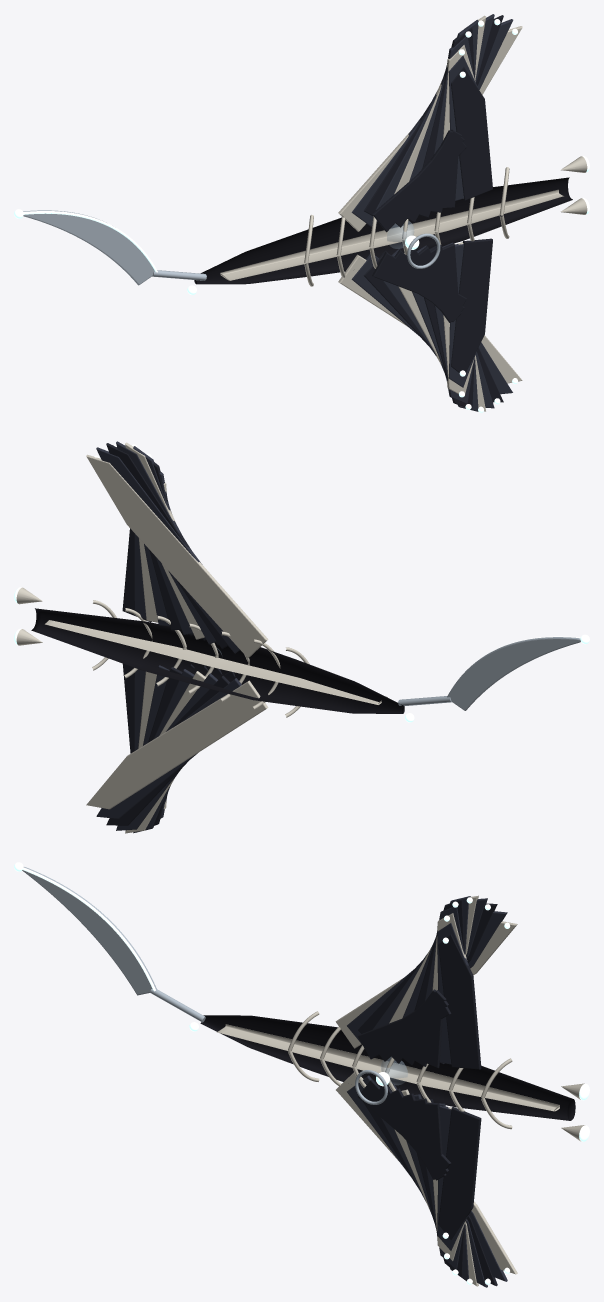
Rendered from thanatos.glb.
3 renders of one model, top to bottom at view 1: azimuth 30°, elevation 25°; view 2: azimuth 150°, elevation 25°; view 3: azimuth 330°, elevation 25°, orthographic.
Parts seen in each view (by area): view 1: hull, spine, feather_R_10, feather_L_10, scythe_blade, covert_L_0, covert_R_0, feather_L_0, feather_L_1, feather_R_0, feather_R_1, feather_L_2 (+20 smaller); view 2: hull, feather_L_0, feather_R_0, scythe_blade, spine, feather_L_1, feather_R_1, feather_L_2, feather_R_2, feather_L_3, feather_R_3, feather_L_4 (+13 smaller); view 3: hull, spine, feather_L_10, feather_R_10, scythe_blade, covert_L_1, covert_R_2, feather_R_0, feather_L_0, feather_R_1, feather_L_1, feather_L_2 (+18 smaller).
Boxes of the visible parts, x1,y1,x2,y2 form: hull: (194, 177, 572, 284); spine: (220, 189, 563, 280); feather_R_10: (451, 238, 492, 372); feather_L_10: (451, 67, 492, 200); scythe_blade: (23, 210, 154, 285); covert_L_0: (372, 140, 466, 232); covert_R_0: (372, 252, 466, 308); feather_L_0: (338, 26, 522, 231); feather_L_1: (351, 19, 513, 227); feather_R_0: (338, 254, 522, 383); feather_R_1: (351, 253, 512, 394); feather_L_2: (364, 15, 503, 215); hull: (31, 608, 404, 713); feather_L_0: (86, 454, 268, 658); feather_R_0: (86, 680, 268, 809); scythe_blade: (447, 637, 580, 710); spine: (45, 620, 387, 704); feather_L_1: (96, 447, 239, 653); feather_R_1: (96, 678, 241, 818); feather_L_2: (106, 443, 228, 648); feather_R_2: (106, 675, 229, 825); feather_L_3: (116, 441, 216, 644); feather_R_3: (116, 673, 217, 830); feather_L_4: (125, 442, 204, 639); hull: (200, 1015, 575, 1120); spine: (217, 1024, 559, 1111); feather_L_10: (438, 934, 481, 1069); feather_R_10: (438, 1107, 481, 1239); scythe_blade: (22, 867, 156, 995); covert_L_1: (369, 999, 448, 1061); covert_R_2: (382, 1088, 446, 1180); feather_R_0: (336, 1072, 517, 1274); feather_L_0: (335, 921, 517, 1048); feather_R_1: (347, 1075, 507, 1281); feather_L_1: (347, 911, 507, 1043); feather_L_2: (358, 903, 497, 1033).
Size of the model in its own units: 921 by 602 by 96.4.
